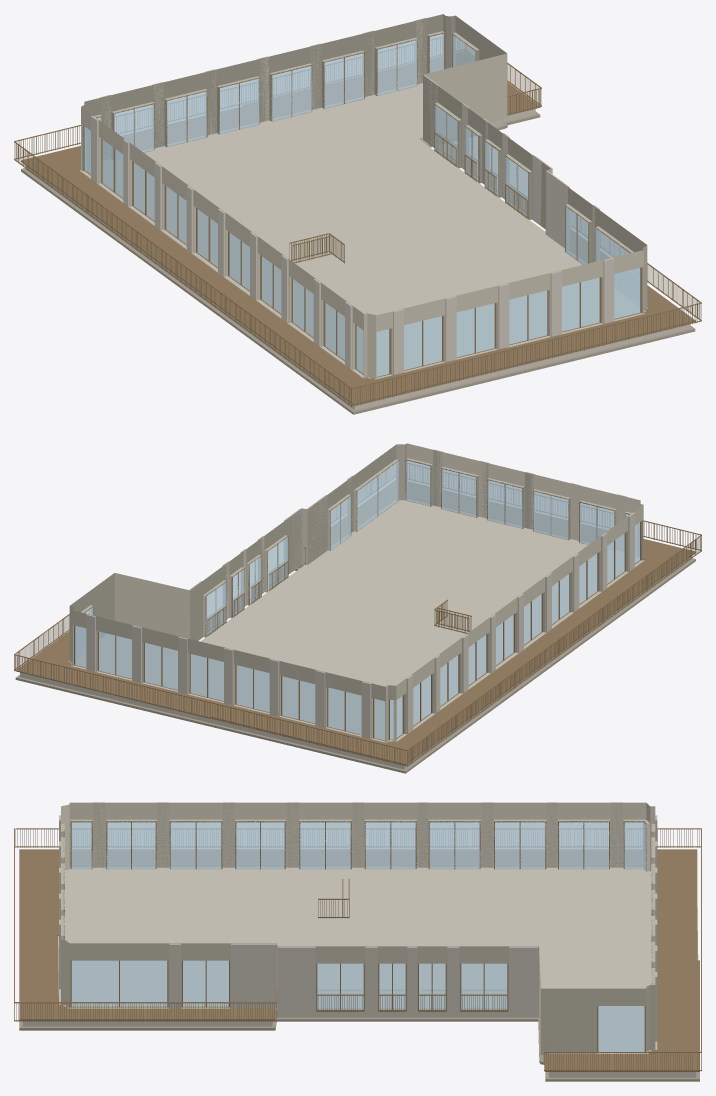
3 renders of one model, top to bottom at view 1: azimuth 30°, elevation 25°; view 2: azimuth 150°, elevation 25°; view 3: azimuth 270°, elevation 25°, orthographic. The views are drawn at different scales.
Size of the model in its own units: 26.68 by 4.19 by 34.6.
